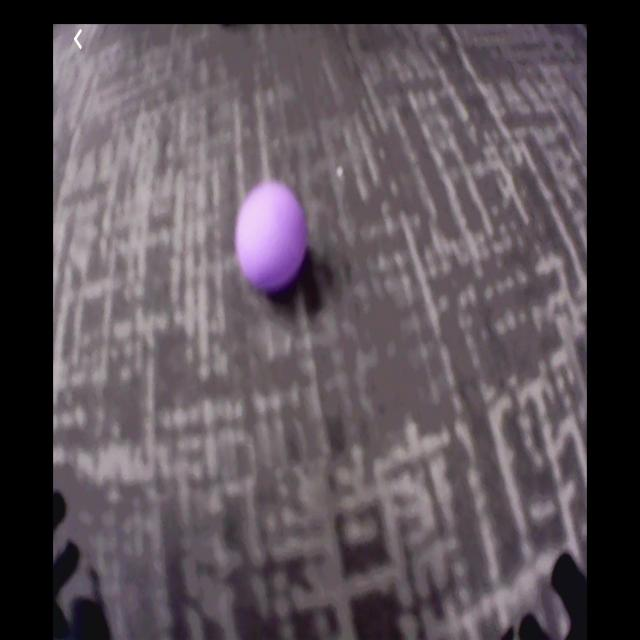ball: (237, 183, 306, 290)
